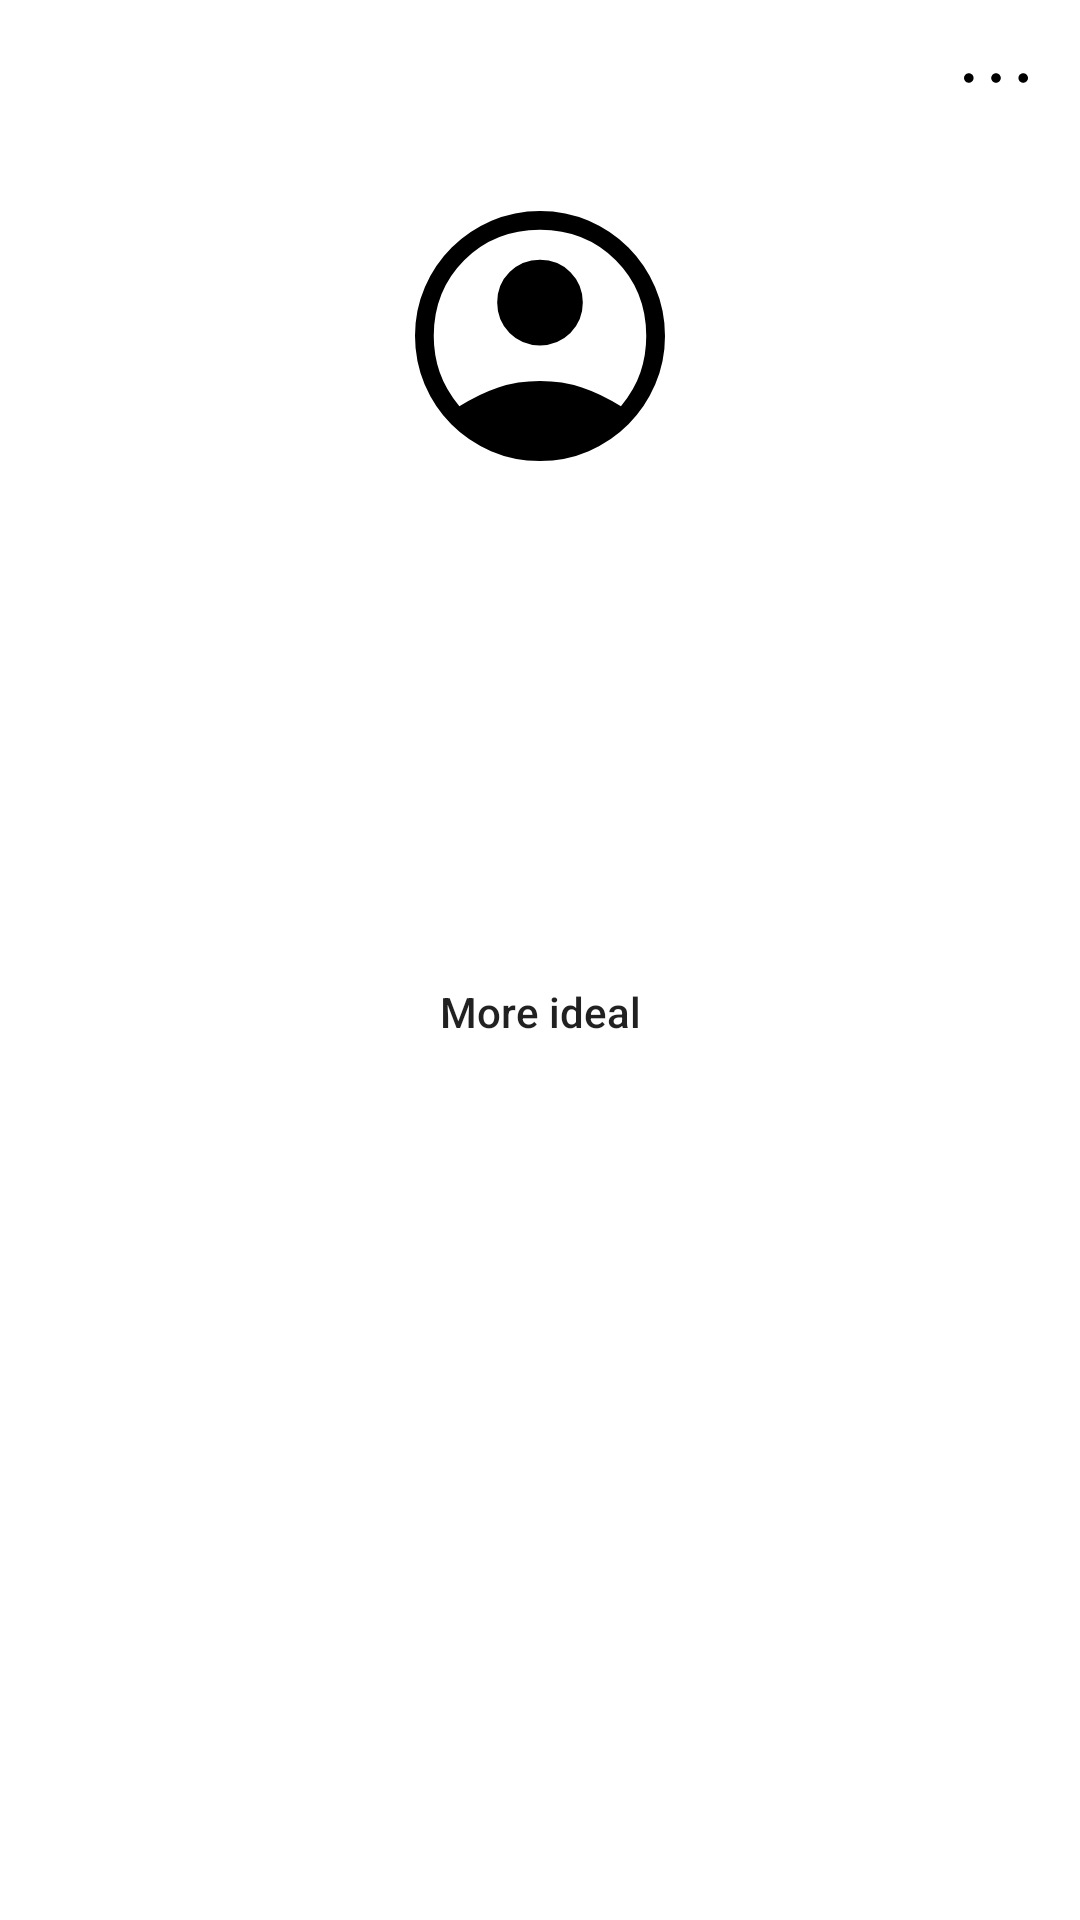

Where icons sit on this 1080px x 1920px app screen, as (x1, y1, x2, y2):
account circle: (415, 211, 665, 461)
